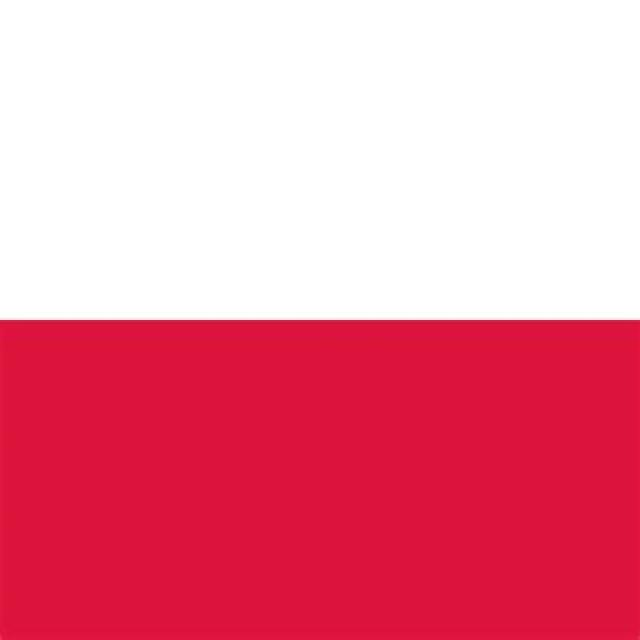poland: (0, 0, 640, 556)
